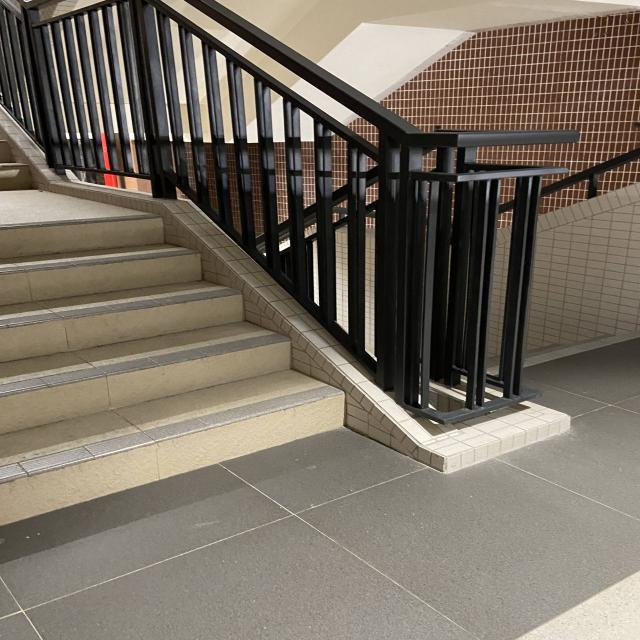Stairs: (0, 180, 356, 522)
